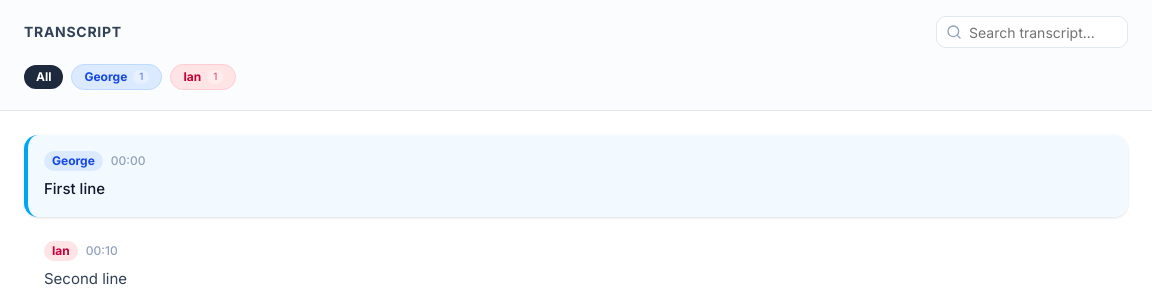
Test case: TranscriptViewer Component › filters transcripts based on search query
Type "Second" into the field with placeholder "Search transcript...".
click(1032, 32); type("Second")  # box left=936, top=16, right=1128, bottom=48
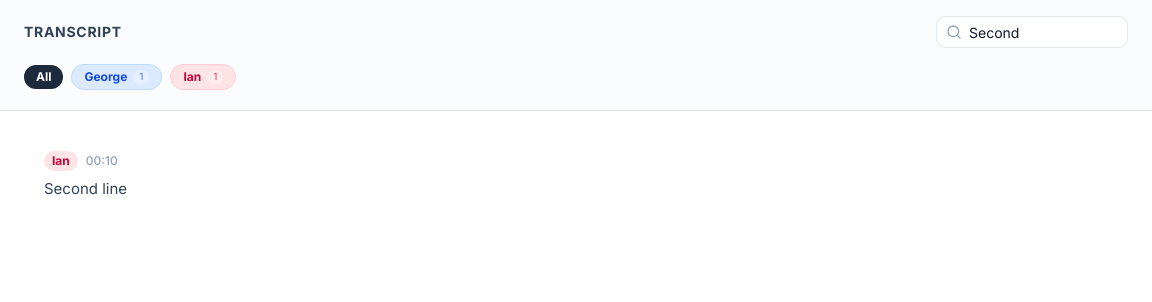
Expected: the text "Second line" is shown, left=44, top=179, right=127, bottom=198
Now the text "First line" is gone
